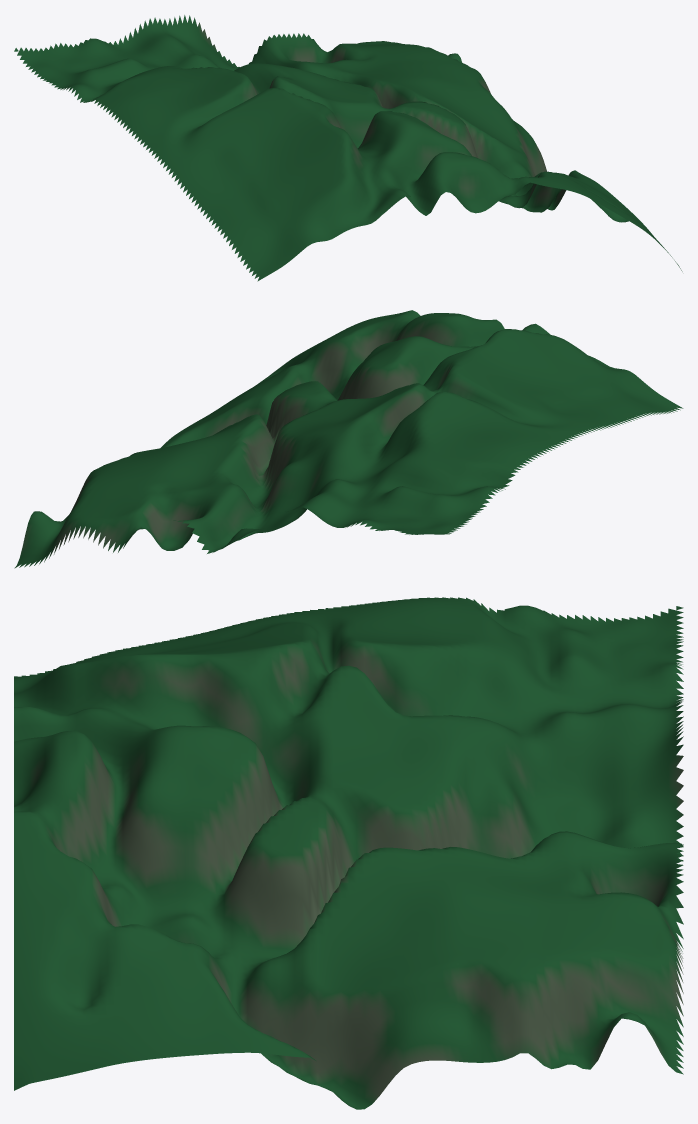
File: payo_land_x1_y2.glb
The picture shows the model from 3 angles, top to bottom: view 1: azimuth 30°, elevation 25°; view 2: azimuth 150°, elevation 25°; view 3: azimuth 270°, elevation 25°; orthographic projection. The views are drawn at different scales.
Visible parts, largest first — view 1: payo_land_x1_y2; view 2: payo_land_x1_y2; view 3: payo_land_x1_y2.
Boxes of the visible parts, box(x1,y1,x2,y2) form: payo_land_x1_y2: box(14, 15, 682, 281); payo_land_x1_y2: box(14, 310, 683, 568); payo_land_x1_y2: box(14, 597, 683, 1109).
Bounding box in the file's own units: 258 × 114 × 258.
